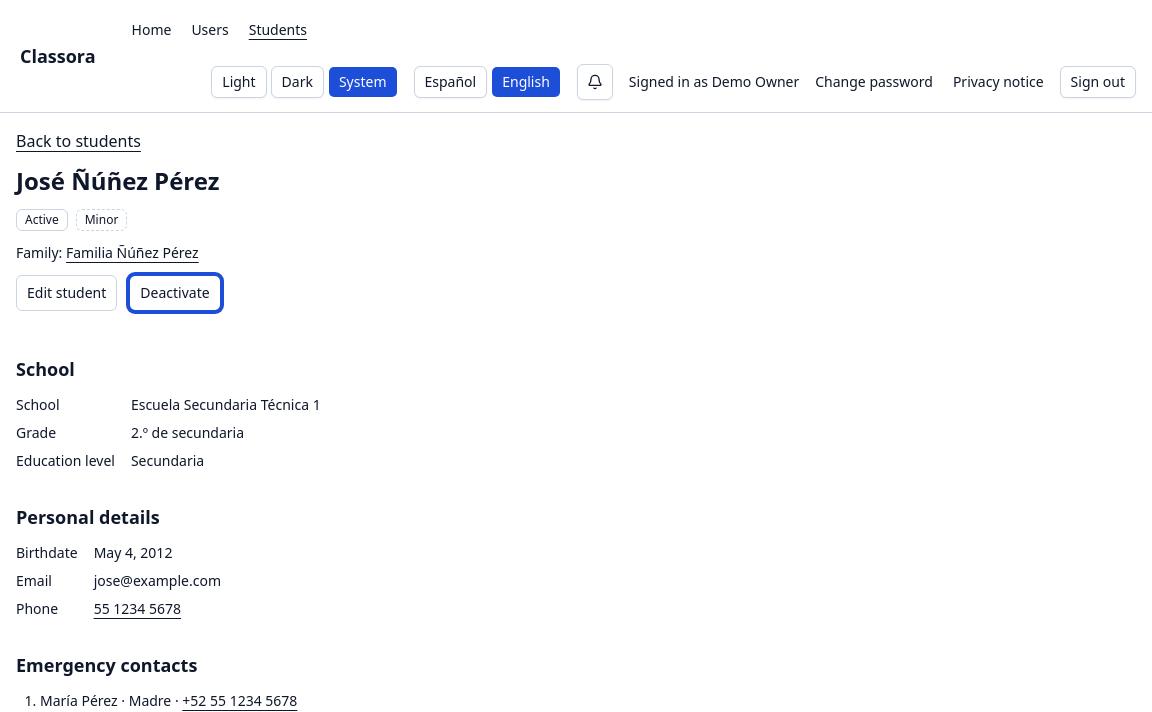
the detail (J3, J4) › deactivating confirms, sends {version, is_active} and returns focus
Click the button "Deactivate" at point(175, 293), box [129,275,221,311]
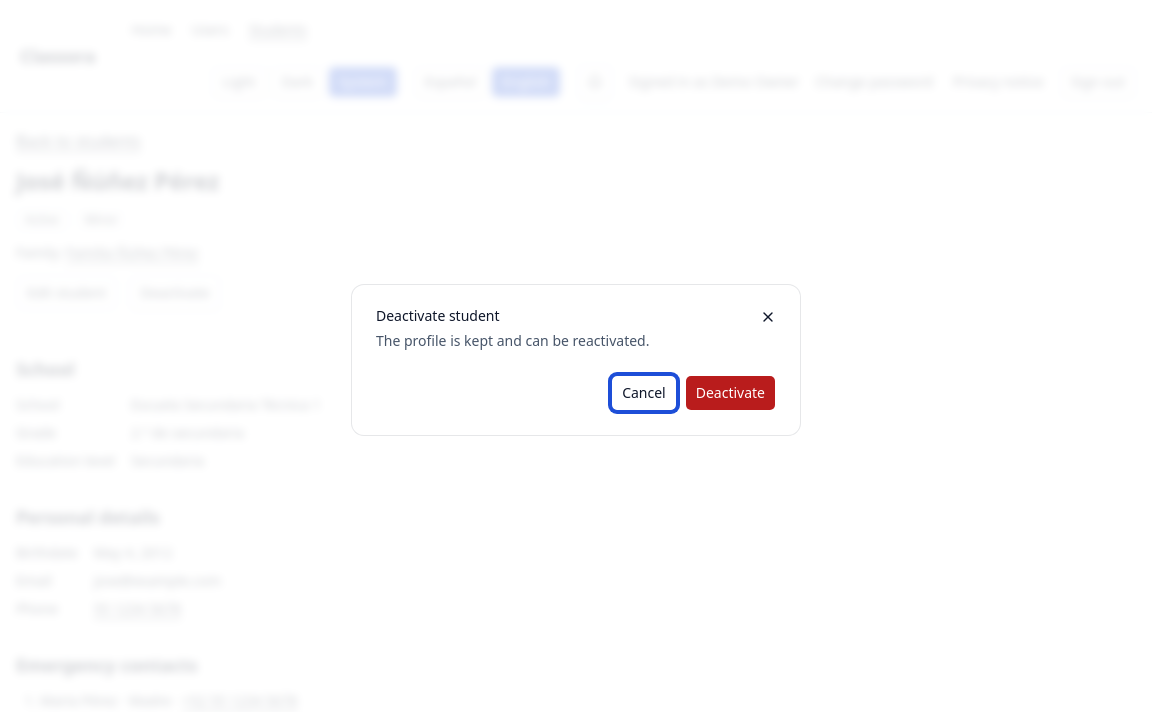
Expected: the dialog shows "Deactivate student", [376,306,500,325]
Expected: the dialog shows "The profile is kept and can be reactivated.", [376,331,650,350]
Click the button "Deactivate" at point(730, 393), box [685,375,776,411]
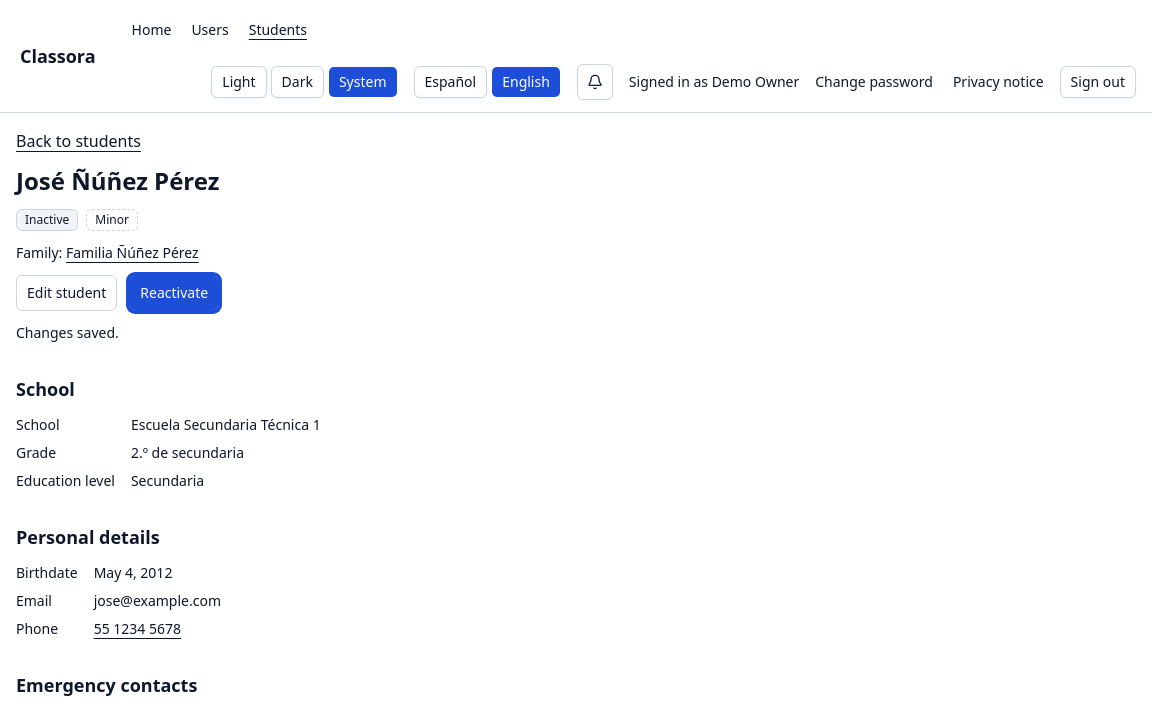
Expected: the element that starts with "Back to students" shows "Inactive", [25,211,69,228]
Expected: the dialog is gone
Expected: the message "Changes saved." is shown, [16,323,119,342]
